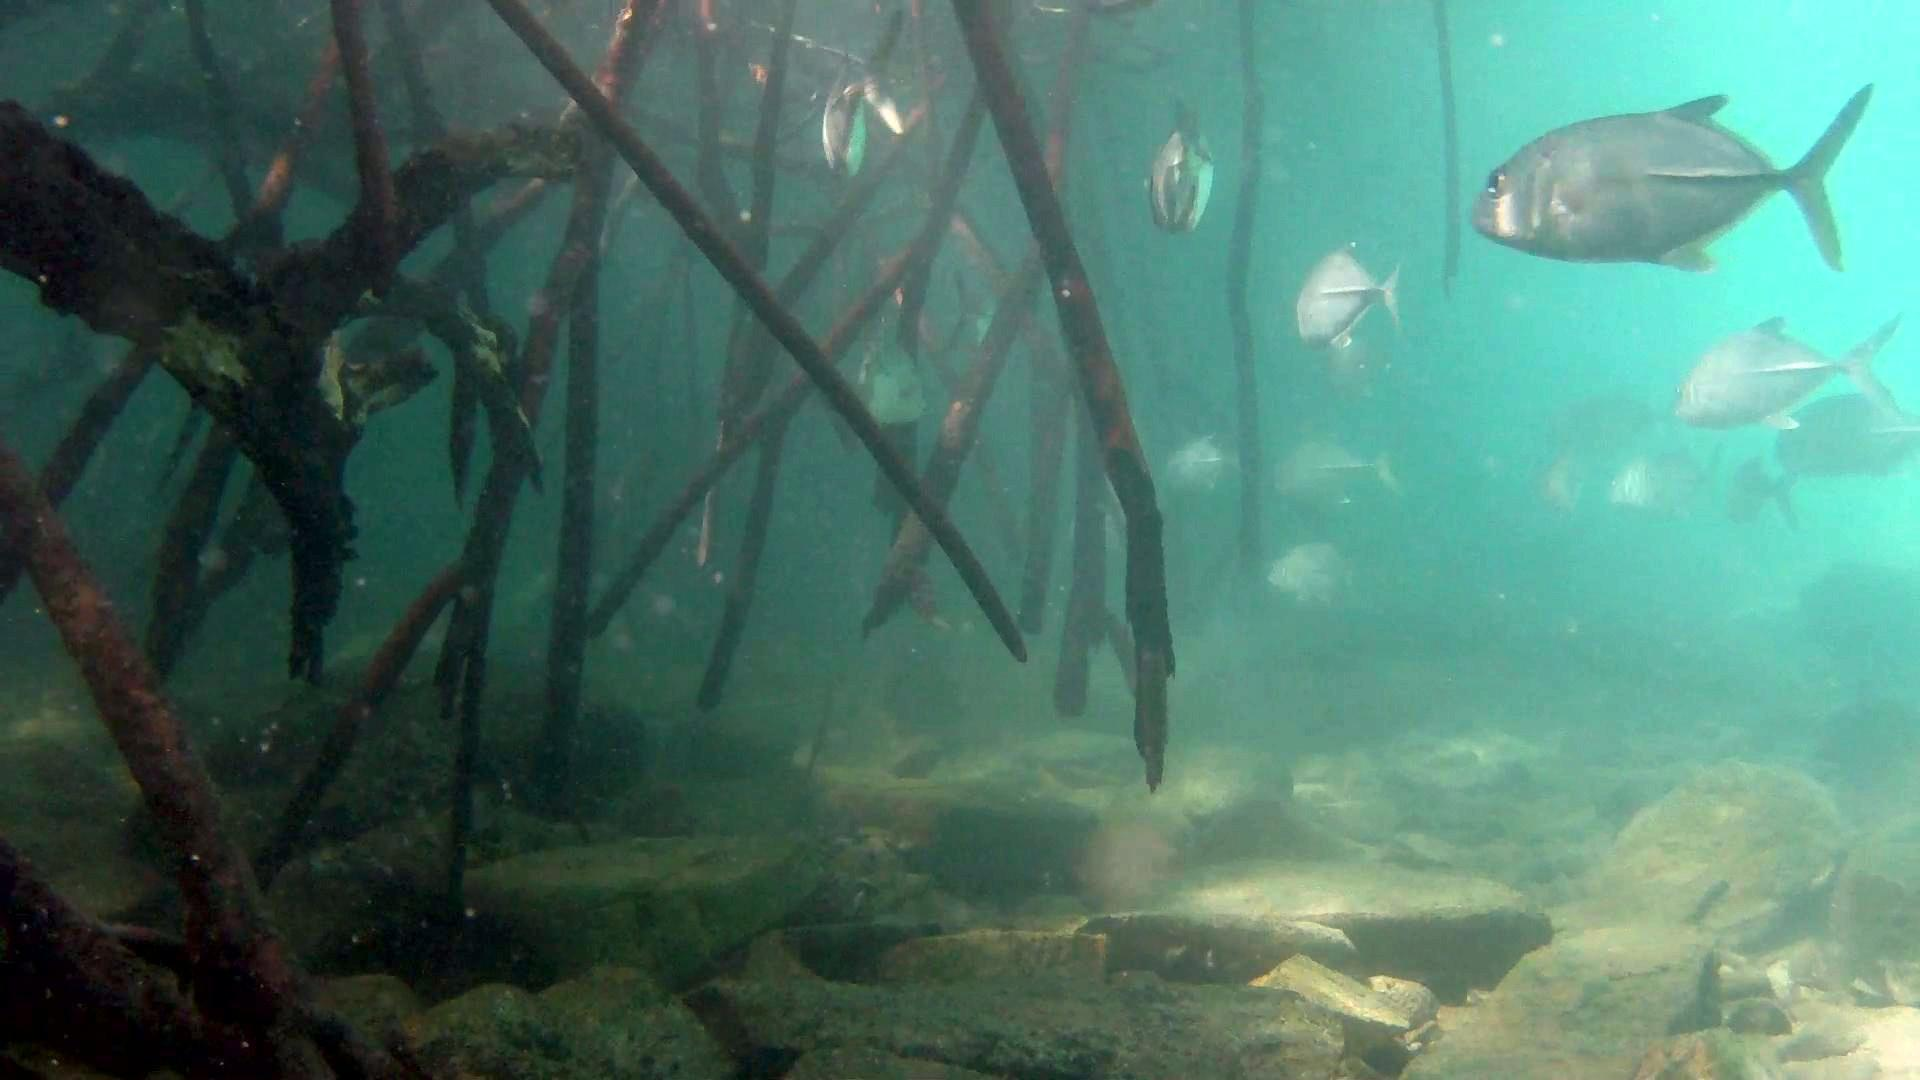caranx: (1456, 71, 1896, 284), (1656, 306, 1920, 440), (1280, 231, 1419, 363)
